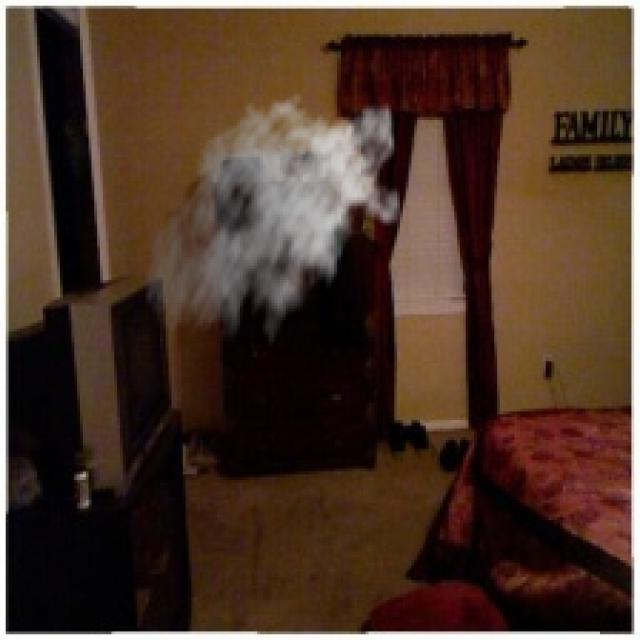smoke: (143, 89, 403, 357)
